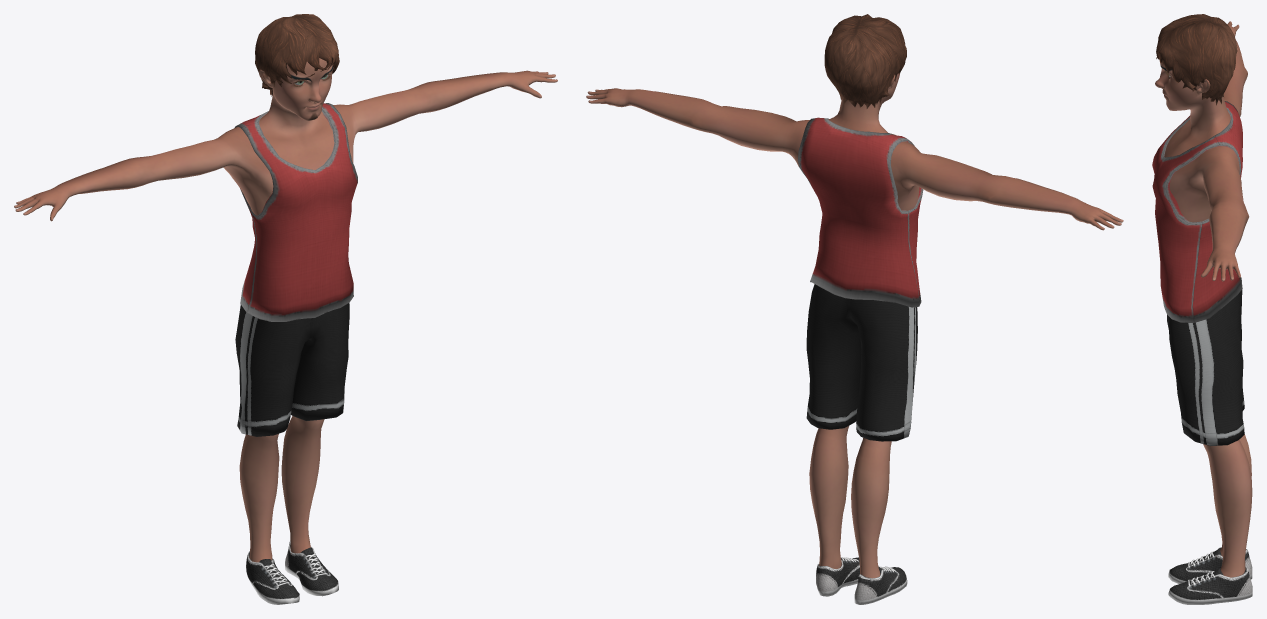
Rendered from Deportista.obj.
The picture shows the model from 3 angles, left to right: view 1: azimuth 30°, elevation 25°; view 2: azimuth 150°, elevation 25°; view 3: azimuth 270°, elevation 25°; orthographic projection.
Parts seen in each view (by area): view 1: Body, Tops, Bottoms, Hair, Shoes; view 2: Body, Tops, Bottoms, Hair, Shoes; view 3: Body, Tops, Bottoms, Hair, Shoes.
Part boxes in pixels (<box>): Body: <box>14,58,557,562</box>; Tops: <box>234,103,357,321</box>; Bottoms: <box>235,303,349,436</box>; Hair: <box>255,14,339,96</box>; Shoes: <box>246,540,338,604</box>; Body: <box>586,73,1123,578</box>; Tops: <box>797,117,923,307</box>; Bottoms: <box>806,284,917,441</box>; Hair: <box>824,14,906,108</box>; Shoes: <box>816,557,907,604</box>; Body: <box>1155,21,1252,577</box>; Tops: <box>1152,101,1242,322</box>; Bottoms: <box>1167,289,1244,445</box>; Hair: <box>1156,14,1237,105</box>; Shoes: <box>1168,547,1252,604</box>.
Bounding box in the file's own units: 165 × 167 × 26.67.
1 material, 1 textured.
